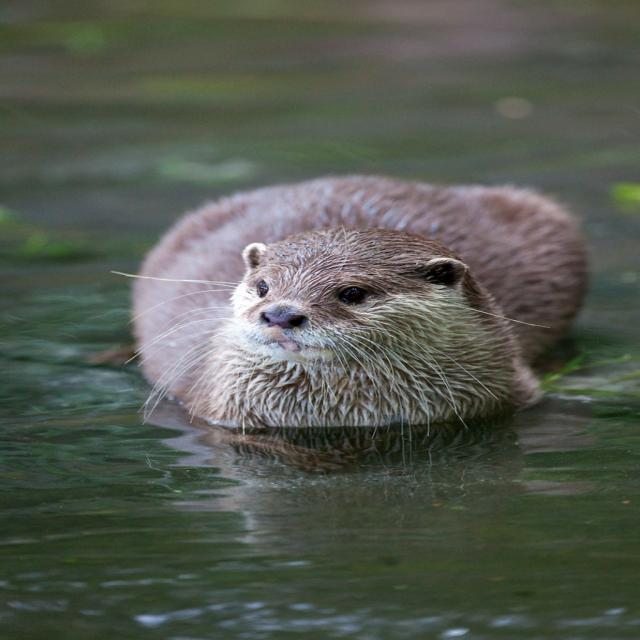otter: (133, 170, 586, 430)
